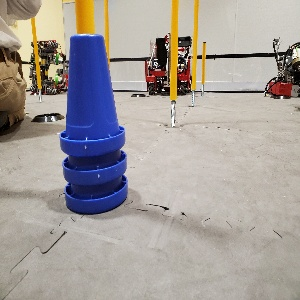Blue_3: (59, 33, 127, 214)
